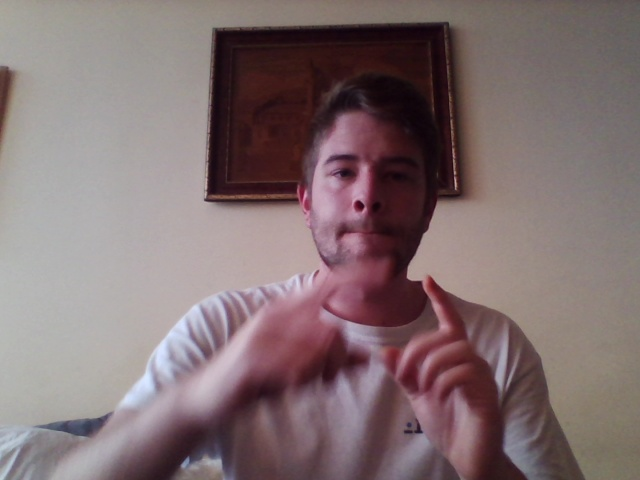kad: (232, 263, 506, 471)
